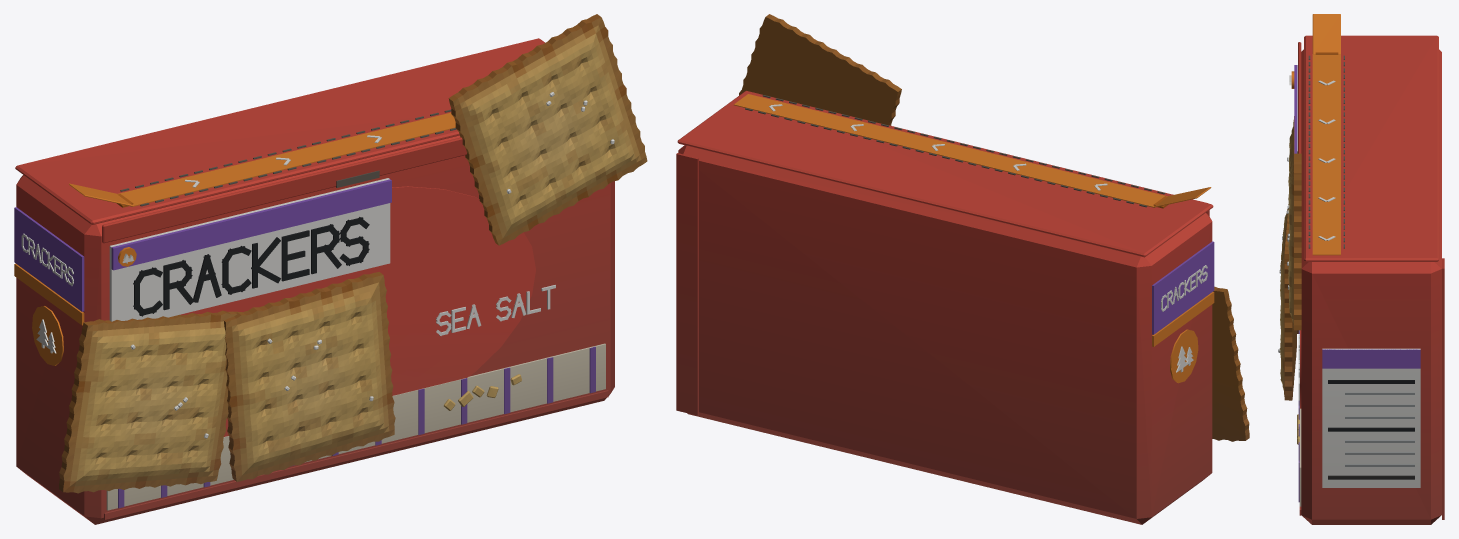
The model's file is gs-crackers.glb.
3 renders of one model, left to right at view 1: azimuth 30°, elevation 25°; view 2: azimuth 150°, elevation 25°; view 3: azimuth 270°, elevation 25°, orthographic. The views are drawn at different scales.
Parts seen in each view (by area): view 1: gs_crackers; view 2: gs_crackers; view 3: gs_crackers.
Boxes of the visible parts, box(x1,y1,x2,y2) form: gs_crackers: box(14, 14, 647, 524); gs_crackers: box(676, 14, 1249, 524); gs_crackers: box(1278, 14, 1444, 524).
Size of the model in its own units: 0.218 by 0.1406 by 0.0614.
